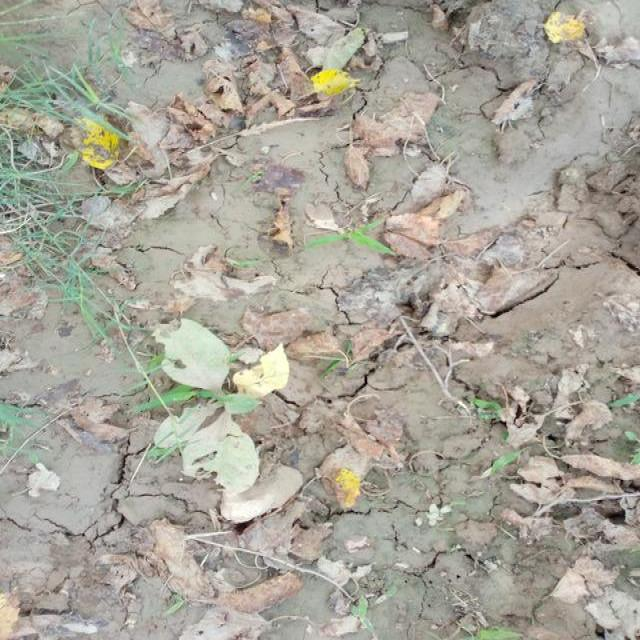crop: (152, 308, 287, 489)
